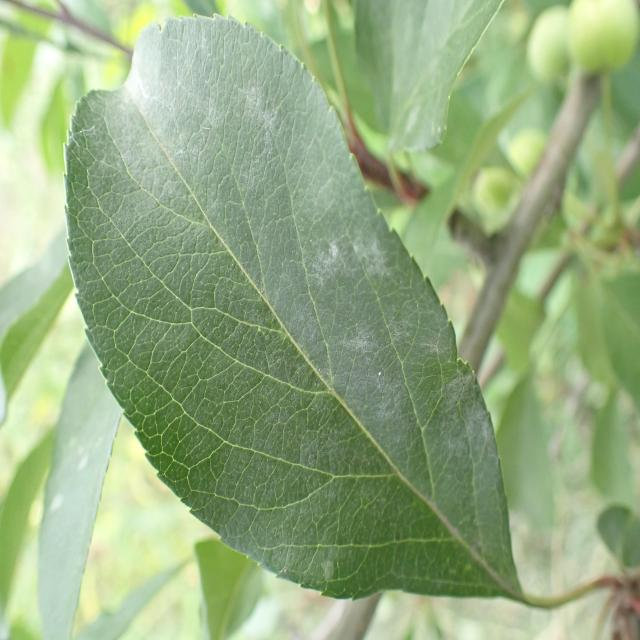Powdery_mildew: (58, 15, 520, 603)
